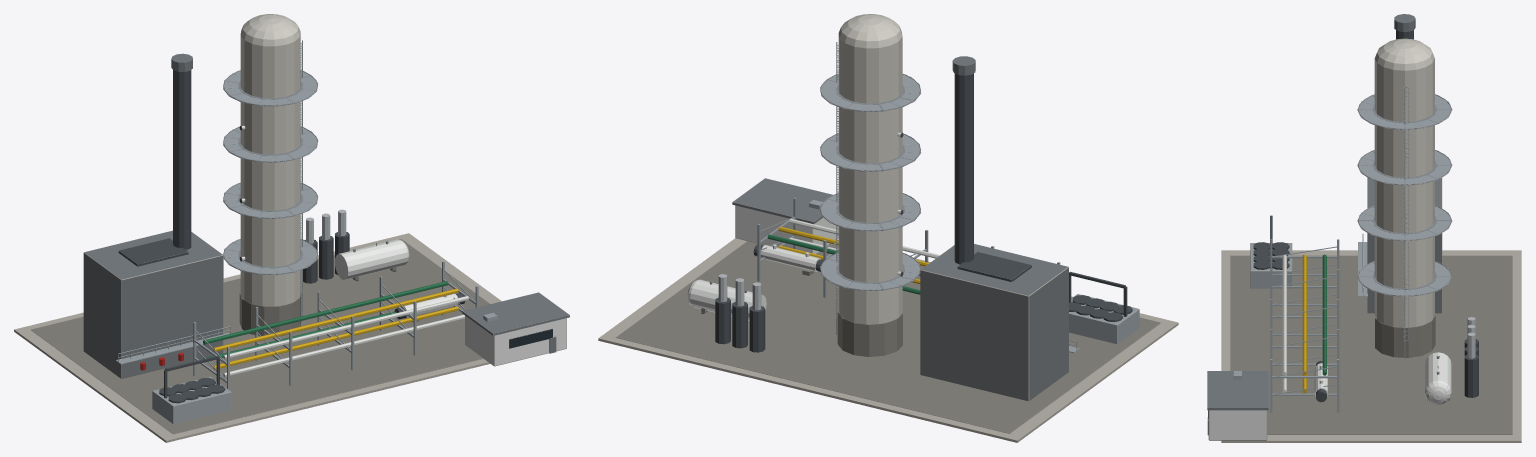
Rendered from ref_vdu.glb.
3 views of the same model, side by side, from view 1: azimuth 30°, elevation 25°; view 2: azimuth 150°, elevation 25°; view 3: azimuth 270°, elevation 25° (orthographic). The views are drawn at different scales.
Visible parts, largest first — view 1: ref_vdu; view 2: ref_vdu; view 3: ref_vdu.
Boxes of the visible parts, x1,y1,x2,y2 form: ref_vdu: (14,14,569,442); ref_vdu: (598,14,1178,442); ref_vdu: (1207,14,1521,442).
Bounding box in the file's own units: 54.25 × 40.28 × 37.67.
